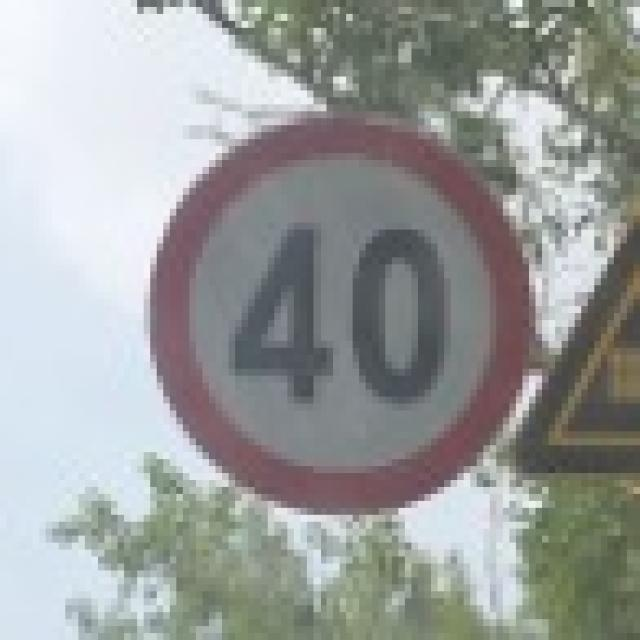Speed Limit -40-: (224, 218, 453, 408)
